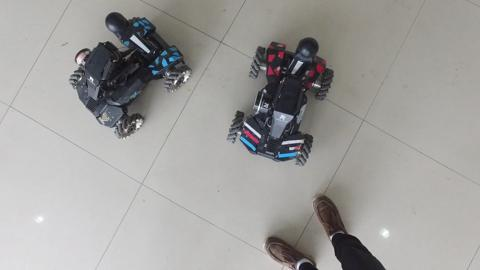chariot: (62, 11, 196, 144), (222, 32, 341, 170)
